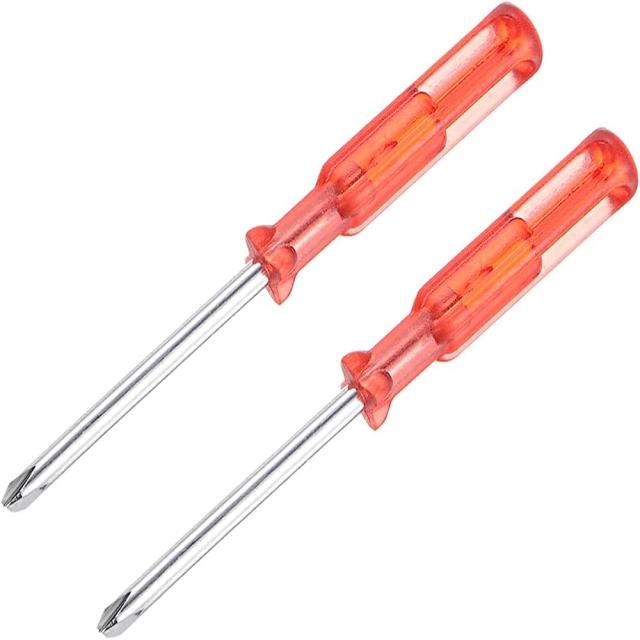Screwdriver: (2, 3, 542, 511), (99, 129, 638, 636)
